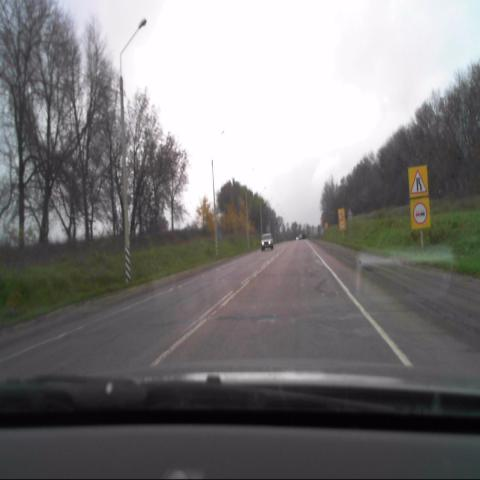1_20_2: (408, 164, 428, 194)
3_20: (410, 197, 430, 230)
